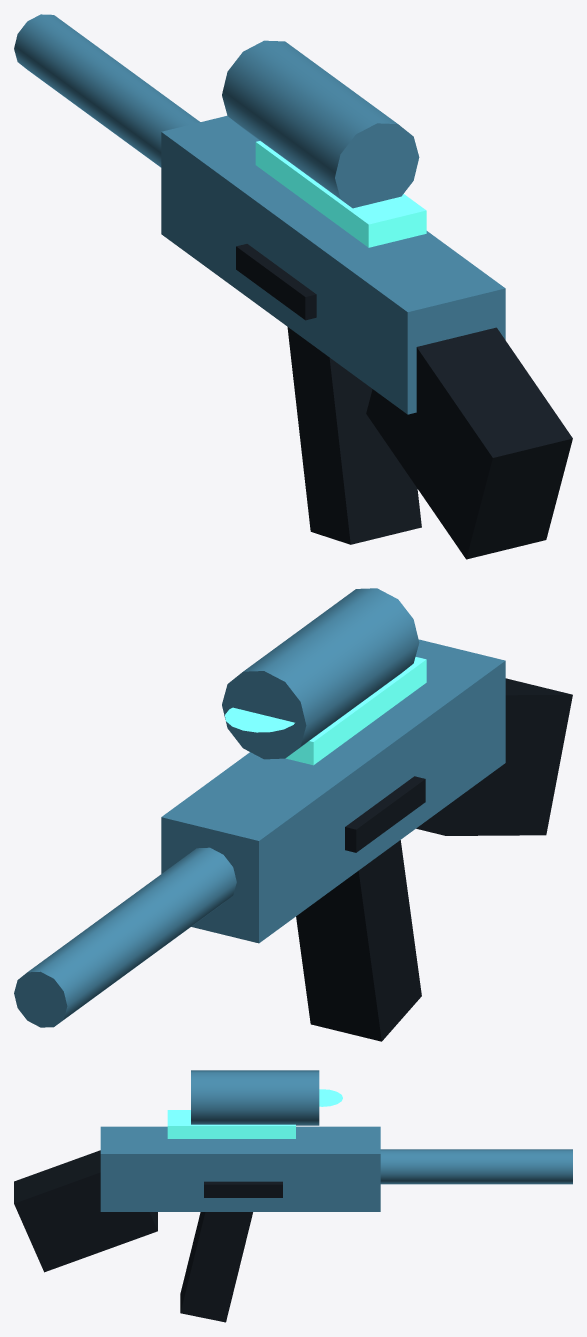
Rendered from vector-0.glb.
3 renders of one model, top to bottom at view 1: azimuth 30°, elevation 25°; view 2: azimuth 150°, elevation 25°; view 3: azimuth 270°, elevation 25°, orthographic. The views are drawn at different scales.
Visible parts, largest first — view 1: vector-0; view 2: vector-0; view 3: vector-0.
Part boxes in pixels (x1,y1,x2,y2): vector-0: [14, 14, 572, 559]; vector-0: [14, 588, 572, 1041]; vector-0: [14, 1070, 572, 1322].
Size of the model in its own units: 0.27 by 0.9072 by 1.92.
